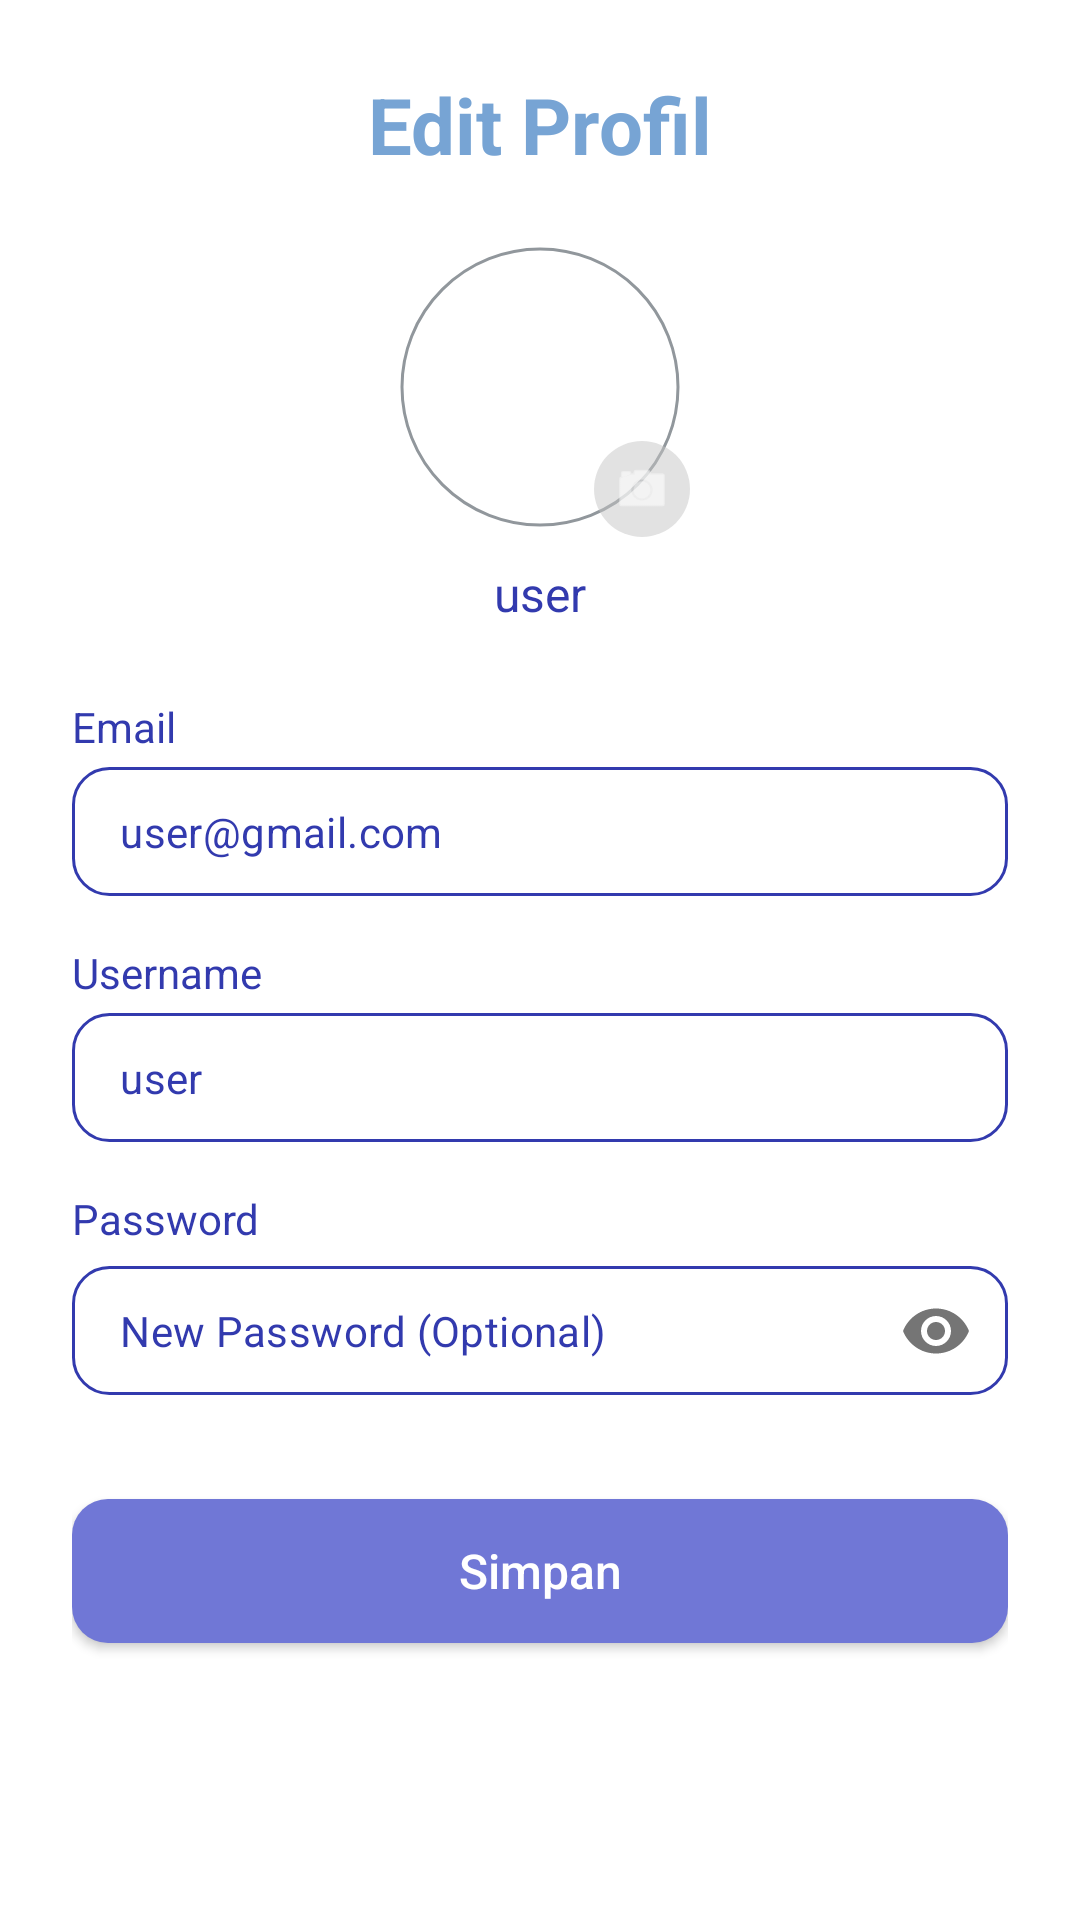

Icon click points for this 1080px x 1920px phone screenshot, format point (x, y):
camera: point (642, 489)
